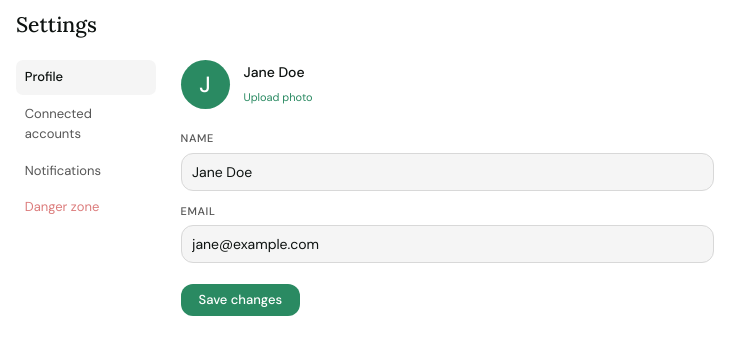
Test case: UserSettings › clicking 'Notifications' tab shows notification preferences
Click the button "Notifications".
click(86, 171)  # box [16,154,156,189]
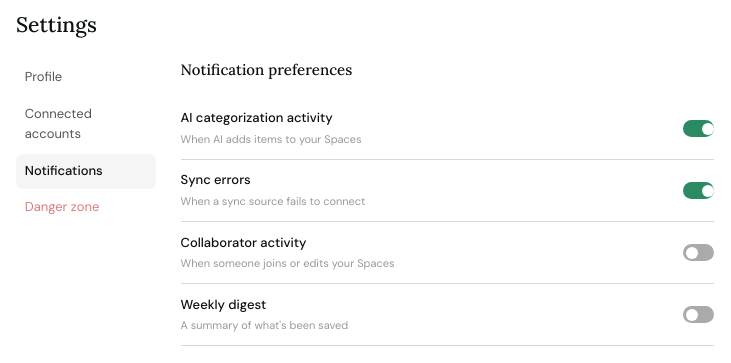
Now the heading "Notification preferences" is shown, box [180,60,352,79]
